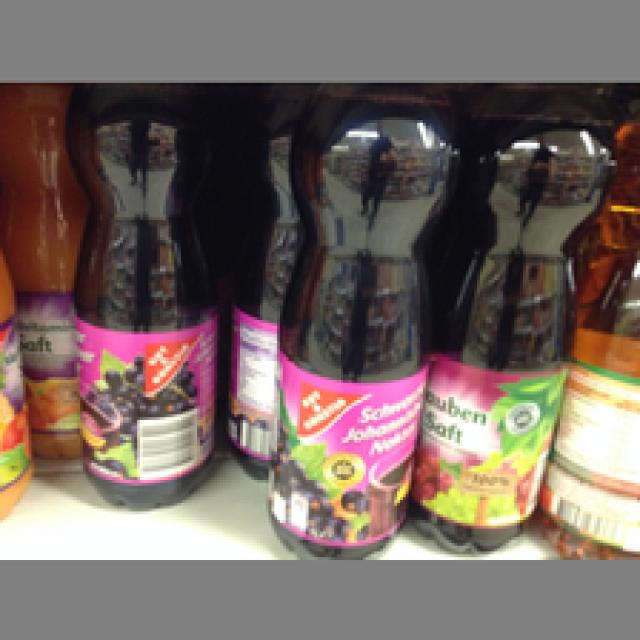groceries: (257, 83, 457, 554), (417, 83, 612, 548), (60, 83, 217, 508)
